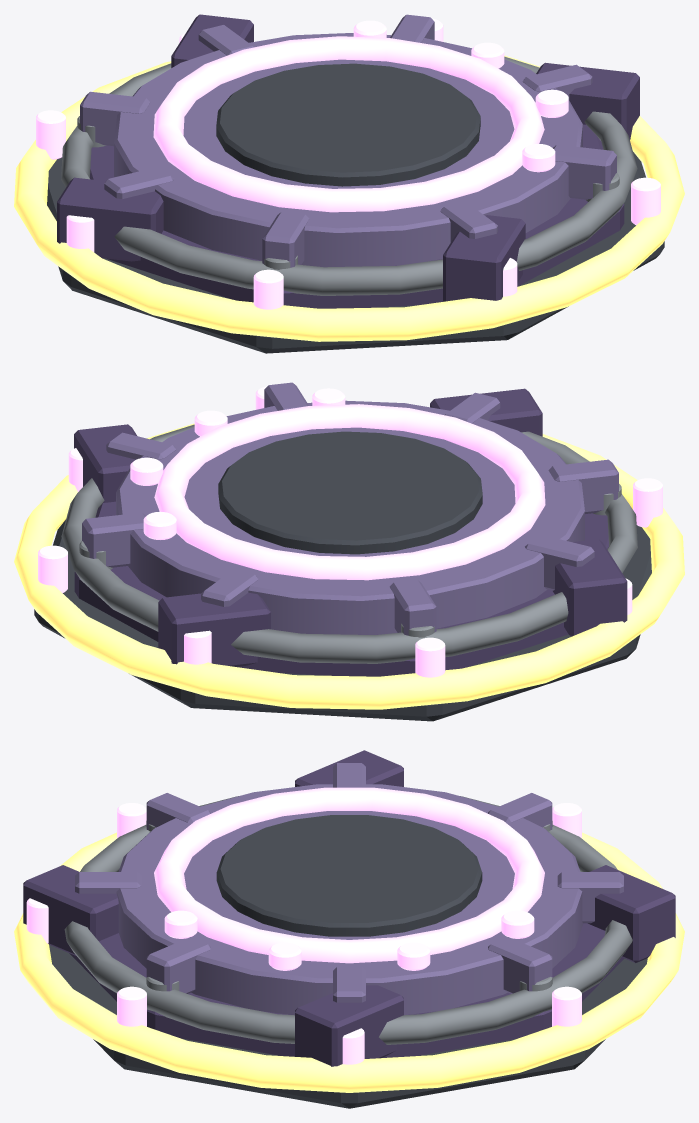
File: arc_base_l4.glb
The picture shows the model from 3 angles, top to bottom: view 1: azimuth 30°, elevation 25°; view 2: azimuth 150°, elevation 25°; view 3: azimuth 270°, elevation 25°; orthographic projection.
Visible parts, largest first — view 1: Cylinder.002, Torus.002, Cylinder.003, Torus.001, Torus, Cylinder, Cylinder.001, Cube.010, Cube.011, Cube.008, Cube.007, Cube.003 (+15 smaller); view 2: Cylinder.002, Torus.002, Cylinder.003, Torus.001, Torus, Cylinder, Cylinder.001, Cube.009, Cube.010, Cube.008, Cube.001, Cube.011 (+16 smaller); view 3: Cylinder.002, Torus.002, Cylinder.003, Torus.001, Torus, Cylinder, Cylinder.001, Cube.008, Cube.011, Cube.009, Cube.001, Cube.007 (+17 smaller).
Part boxes in pixels (left/top/right/bottom): Cylinder.002: left=114, top=33, right=582, bottom=267; Torus.002: left=14, top=55, right=684, bottom=341; Cylinder.003: left=216, top=63, right=480, bottom=186; Torus.001: left=153, top=36, right=544, bottom=212; Torus: left=61, top=56, right=637, bottom=295; Cylinder: left=47, top=152, right=664, bottom=353; Cylinder.001: left=90, top=124, right=624, bottom=308; Cube.010: left=57, top=177, right=163, bottom=261; Cube.011: left=443, top=215, right=525, bottom=301; Cube.008: left=536, top=62, right=639, bottom=139; Cube.007: left=553, top=144, right=616, bottom=199; Cube.003: left=80, top=91, right=150, bottom=146; Cylinder.002: left=116, top=400, right=584, bottom=634; Torus.002: left=14, top=423, right=684, bottom=709; Cylinder.003: left=218, top=431, right=482, bottom=554; Torus.001: left=154, top=404, right=545, bottom=580; Torus: left=61, top=424, right=637, bottom=663; Cylinder: left=34, top=519, right=651, bottom=721; Cylinder.001: left=74, top=501, right=608, bottom=676; Cube.009: left=158, top=592, right=270, bottom=666; Cube.010: left=553, top=539, right=627, bottom=636; Cube.008: left=74, top=424, right=137, bottom=502; Cube.001: left=82, top=512, right=145, bottom=567; Cube.011: left=430, top=388, right=542, bottom=436; Cylinder.002: left=116, top=784, right=583, bottom=1015; Torus.002: left=14, top=832, right=684, bottom=1092; Cylinder.003: left=216, top=815, right=482, bottom=936; Torus.001: left=154, top=787, right=544, bottom=963; Torus: left=64, top=796, right=632, bottom=1044; Cylinder: left=49, top=945, right=647, bottom=1108; Cylinder.001: left=69, top=923, right=624, bottom=1057; Cube.008: left=295, top=985, right=403, bottom=1066; Cube.011: left=23, top=865, right=118, bottom=956; Cube.009: left=588, top=865, right=675, bottom=962; Cube.001: left=488, top=937, right=552, bottom=993; Cube.007: left=146, top=937, right=210, bottom=993.
Bounding box in the file's own units: 2.22 × 0.4 × 2.22.
